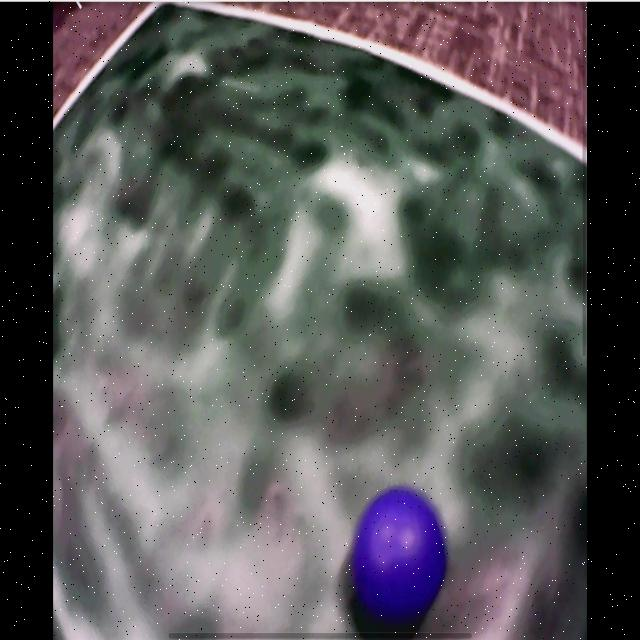ball: (355, 489, 447, 619)
